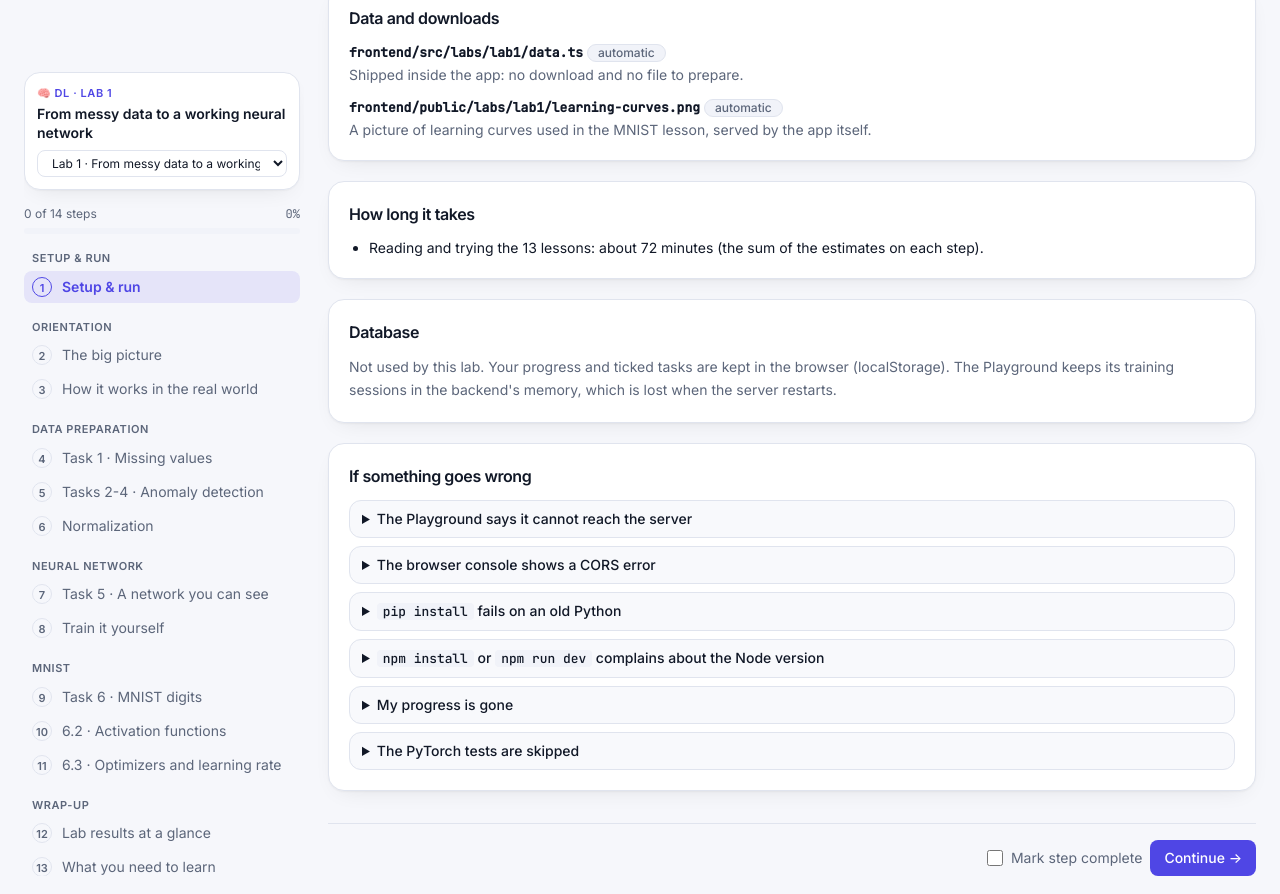
Test: the setup step in the lab shell › Continue on the setup step goes to the first lesson and counts as progress
The image size is (1280, 894).
(page scrolled)
Click the button "Continue →" at (1203, 858), box [1150,840,1256,876]
(page scrolled)
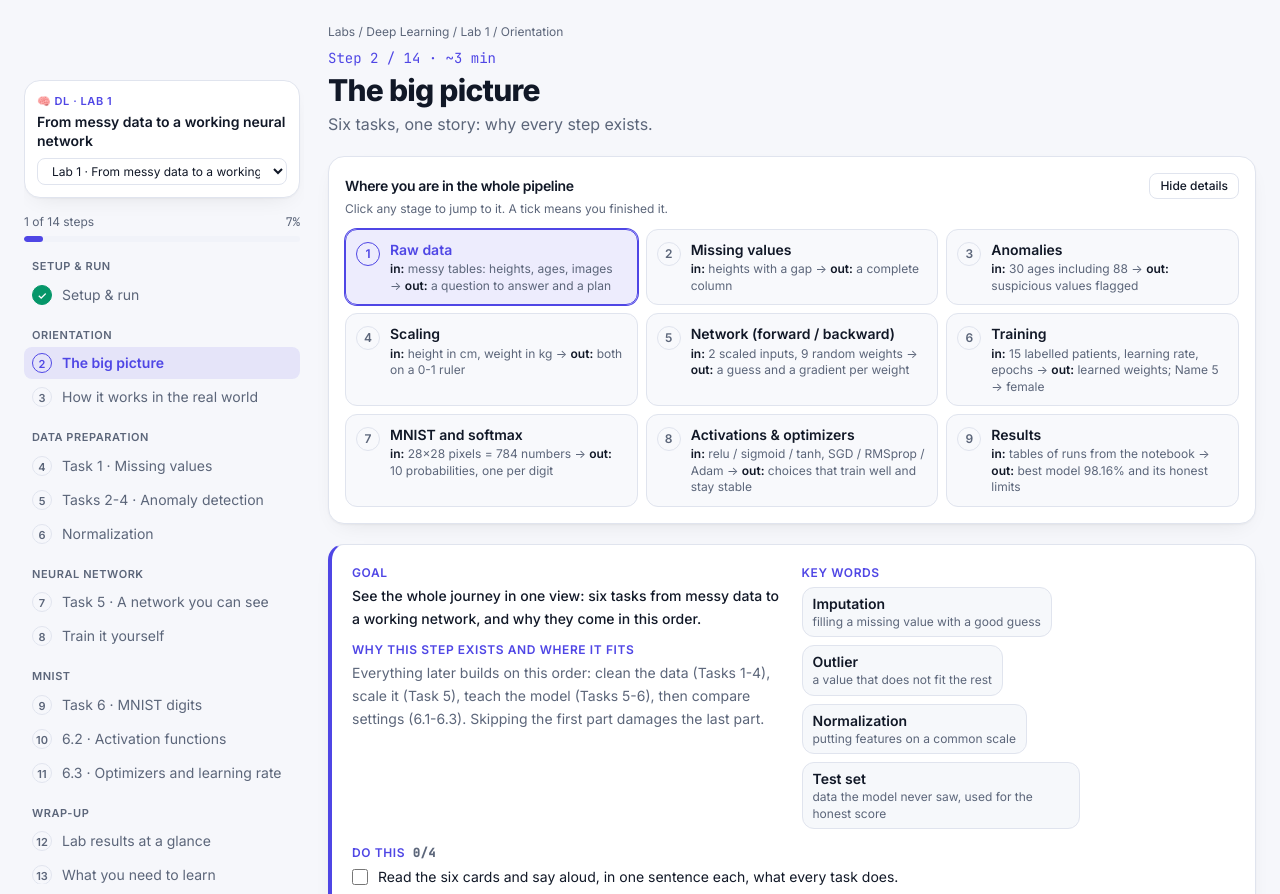
Result: the heading "The big picture" is shown at [328,72,540,108]
